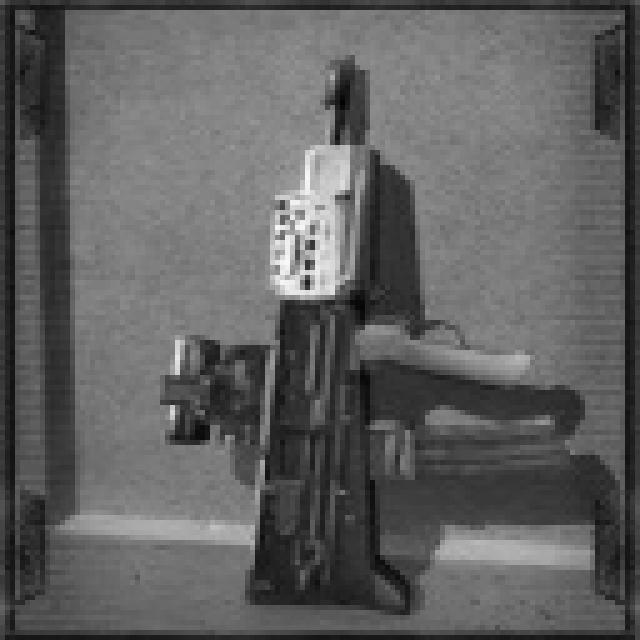Rifle: (148, 23, 594, 638)
